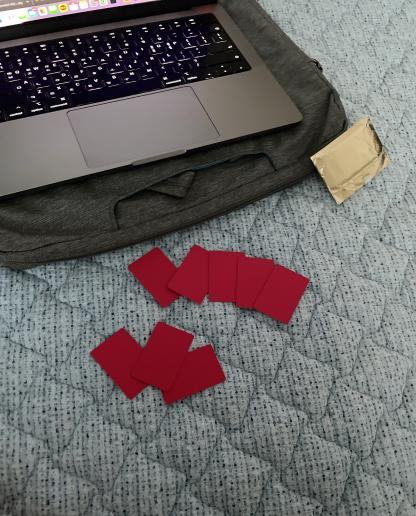ThreeHwatoo: (82, 316, 235, 412)
